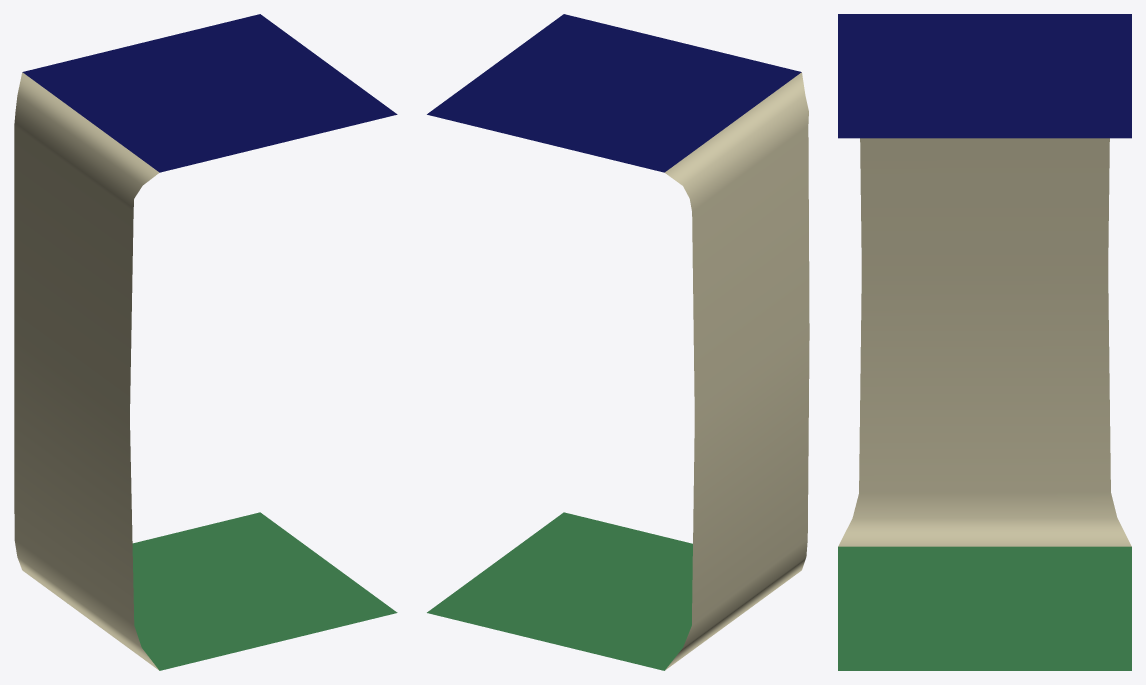
The model's file is ModuleSC_col_04.FBX.
3 renders of one model, left to right at view 1: azimuth 30°, elevation 25°; view 2: azimuth 150°, elevation 25°; view 3: azimuth 270°, elevation 25°, orthographic. The views are drawn at different scales.
Visible parts, largest first — view 1: ModuleSCs_B_wall_014, ModuleSCs_B_roof_014, ModuleSCs_B_floor_015; view 2: ModuleSCs_B_wall_014, ModuleSCs_B_roof_014, ModuleSCs_B_floor_015; view 3: ModuleSCs_B_wall_014, ModuleSCs_B_floor_015, ModuleSCs_B_roof_014.
Boxes of the visible parts, x1,y1,x2,y2 form: ModuleSCs_B_wall_014: (14,72,159,670); ModuleSCs_B_roof_014: (22,14,397,172); ModuleSCs_B_floor_015: (132,512,397,670); ModuleSCs_B_wall_014: (664,72,809,670); ModuleSCs_B_roof_014: (427,14,801,172); ModuleSCs_B_floor_015: (427,512,692,670); ModuleSCs_B_wall_014: (838,138,1131,546); ModuleSCs_B_floor_015: (838,546,1131,670); ModuleSCs_B_roof_014: (838,14,1131,138).
Size of the model in its own units: 42.54 by 78.74 by 39.37.
